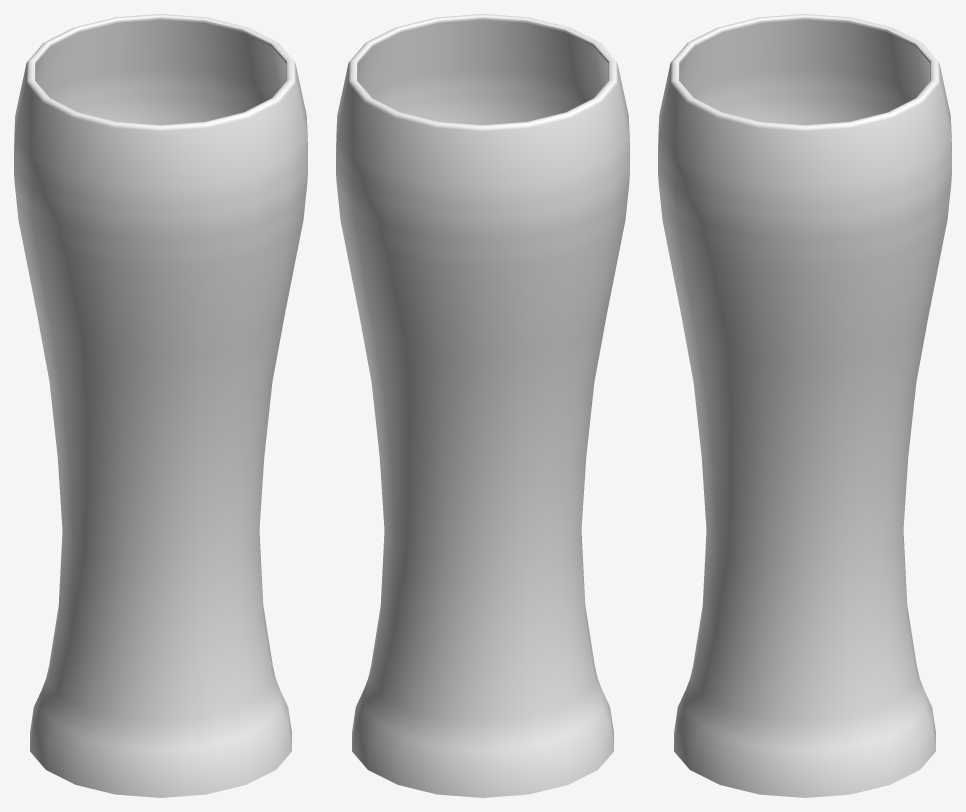
The picture shows the model from 3 angles, left to right: view 1: azimuth 30°, elevation 25°; view 2: azimuth 150°, elevation 25°; view 3: azimuth 270°, elevation 25°; orthographic projection.
Visible parts, largest first — view 1: BeerGlass; view 2: BeerGlass; view 3: BeerGlass.
Part boxes in pixels (x1=…): BeerGlass: x1=14, y1=14, x2=307, y2=797; BeerGlass: x1=336, y1=14, x2=629, y2=797; BeerGlass: x1=658, y1=14, x2=951, y2=797.
Bounding box in the file's own units: 0.0604 × 0.15 × 0.0595.
Materials: 1 (1 with a texture image).
